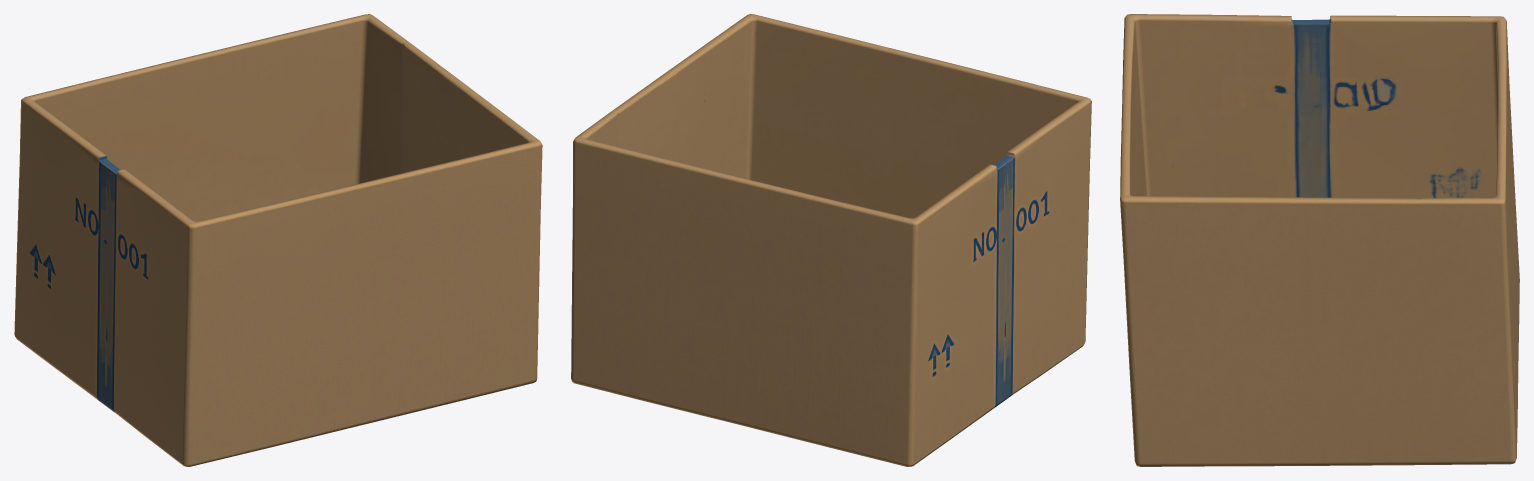
The model's file is OparetionRoom_AI_Prop.003.fbx.
3 views of the same model, side by side, from view 1: azimuth 30°, elevation 25°; view 2: azimuth 150°, elevation 25°; view 3: azimuth 270°, elevation 25° (orthographic). The views are drawn at different scales.
Visible parts, largest first — view 1: OparetionRoom_AI_Prop.003; view 2: OparetionRoom_AI_Prop.003; view 3: OparetionRoom_AI_Prop.003.
Part boxes in pixels (x1=…): OparetionRoom_AI_Prop.003: x1=14, y1=14, x2=542, y2=466; OparetionRoom_AI_Prop.003: x1=571, y1=14, x2=1091, y2=466; OparetionRoom_AI_Prop.003: x1=1120, y1=14, x2=1519, y2=466.
Bounding box in the file's own units: 55.48 × 36.99 × 49.68.
